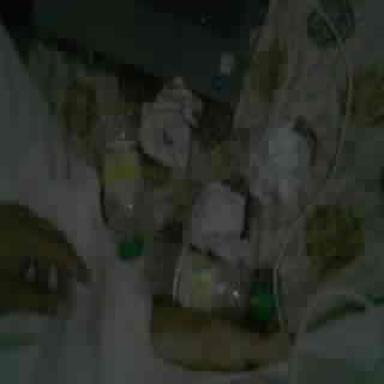bottle: (134, 237, 271, 320), (86, 78, 142, 246)
paper: (138, 78, 200, 171), (251, 120, 311, 205), (191, 182, 244, 246)
